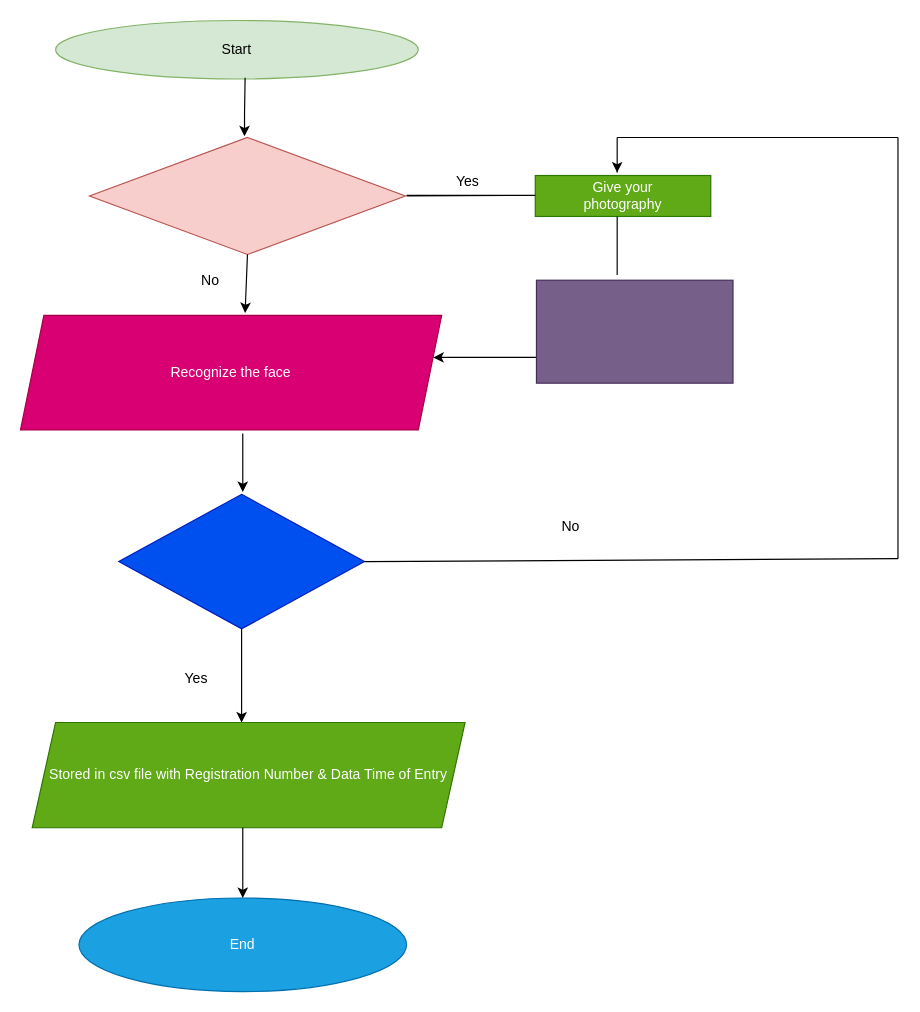
This 920x1012 diagram has some shape labels left out. The box of each missing label's shape, as (x1, y1, x2, y2) in pixels:
Face Recognized: (118, 493, 364, 629)
New user?: (88, 136, 405, 254)
Store the face data in folder on your name: (535, 279, 733, 383)
